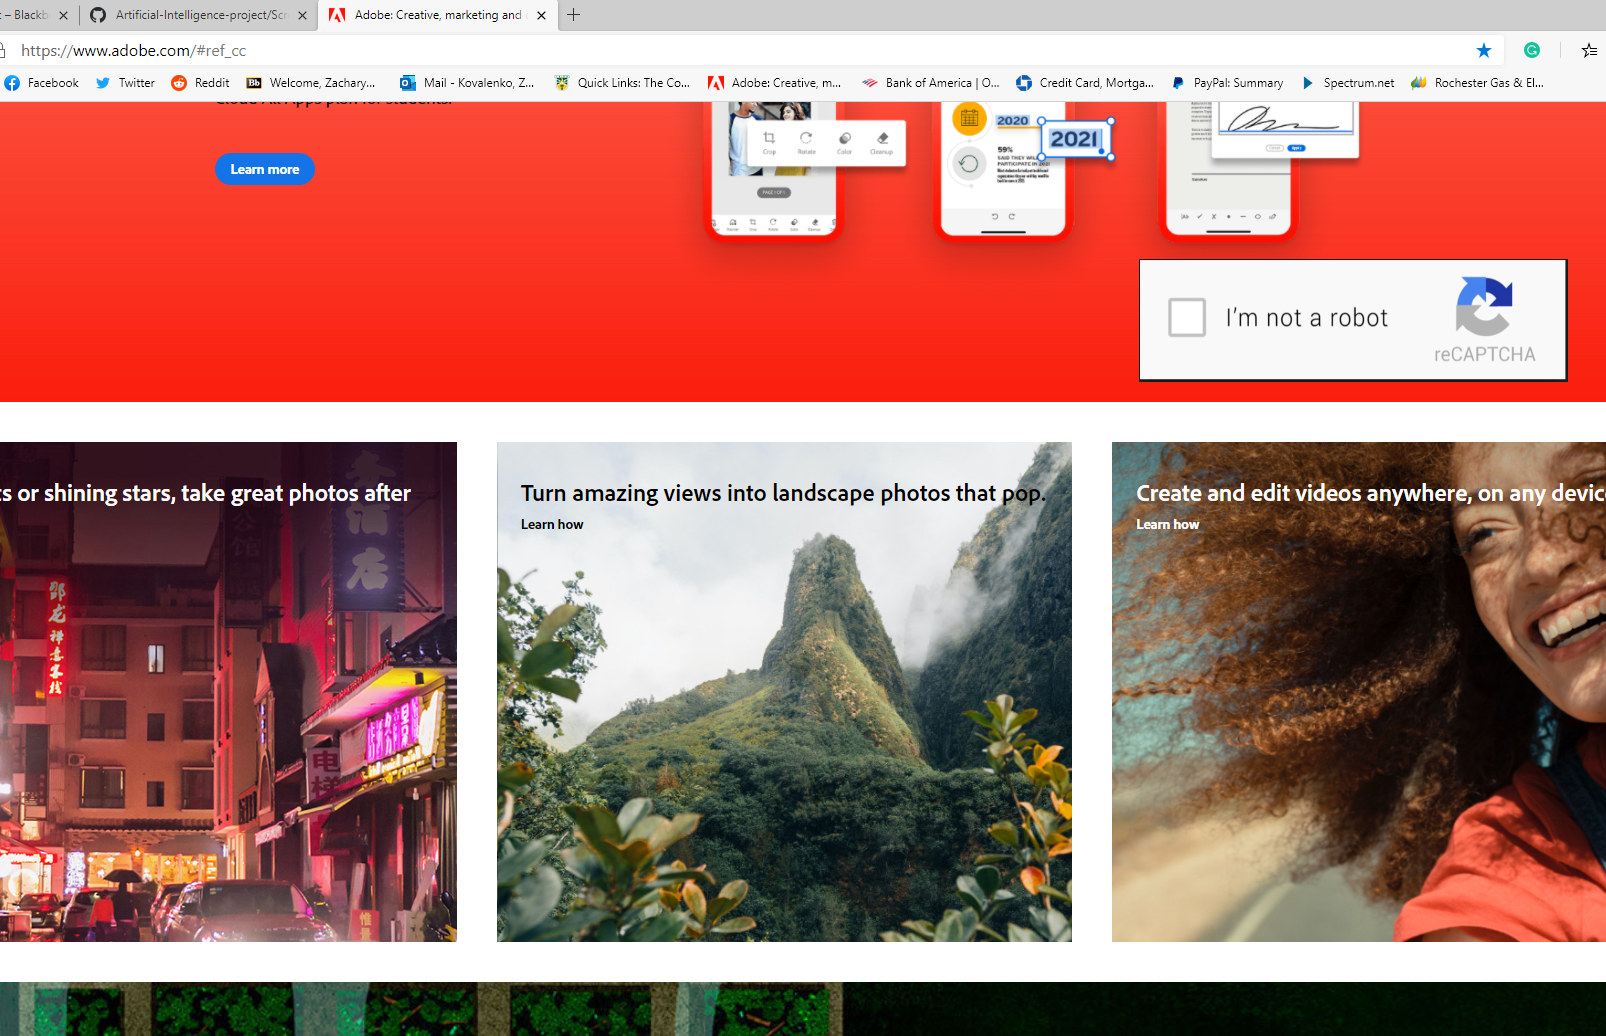captcha: (1139, 260, 1564, 377)
